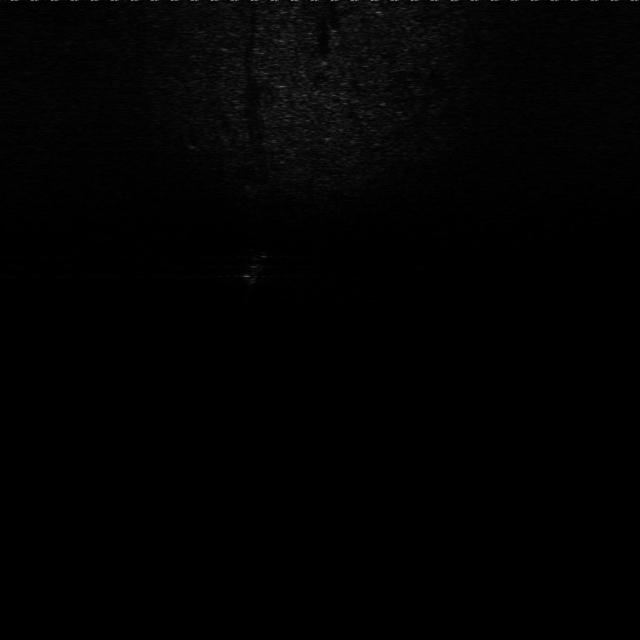human body: (237, 240, 277, 286)
